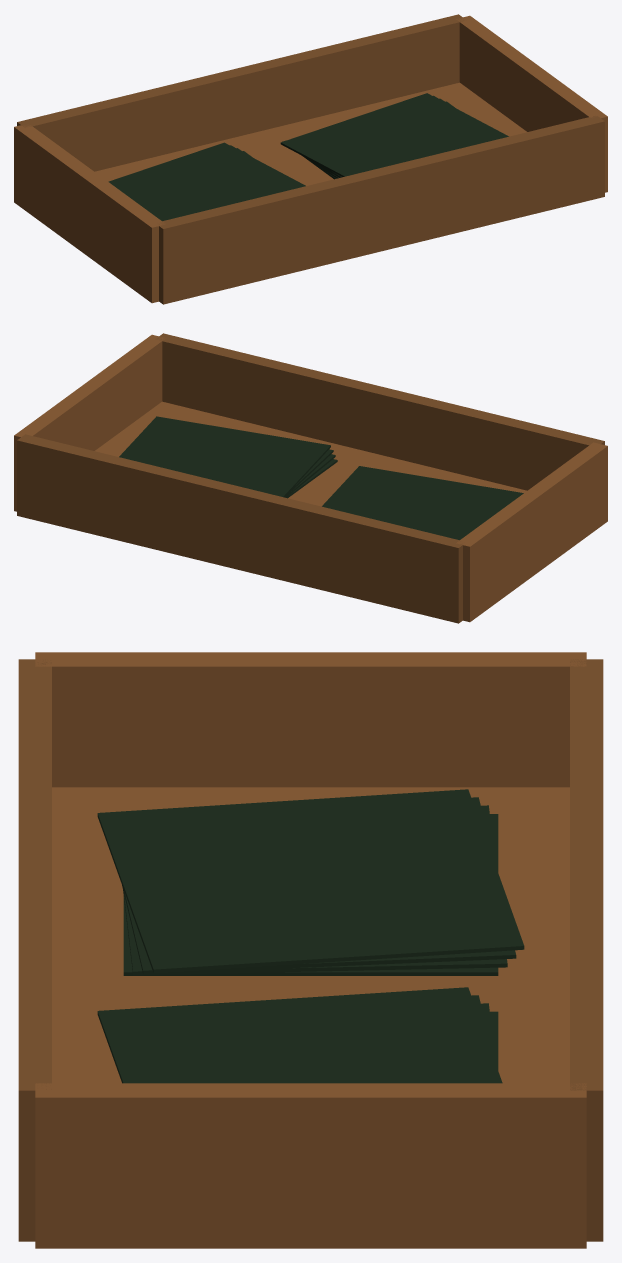
File: Sea_Laver.fbx
3 views of the same model, one above another, from view 1: azimuth 30°, elevation 25°; view 2: azimuth 150°, elevation 25°; view 3: azimuth 270°, elevation 25° (orthographic). The views are drawn at different scales.
Parts seen in each view (by area): view 1: Sea_Laver__Stack; view 2: Sea_Laver__Stack; view 3: Sea_Laver__Stack.
Boxes of the visible parts, bbox=[...] form: Sea_Laver__Stack: bbox=[14, 14, 607, 304]; Sea_Laver__Stack: bbox=[14, 333, 607, 623]; Sea_Laver__Stack: bbox=[18, 652, 603, 1248].
Bounding box in the file's own units: 0.2529 × 0.04 × 0.1404.
